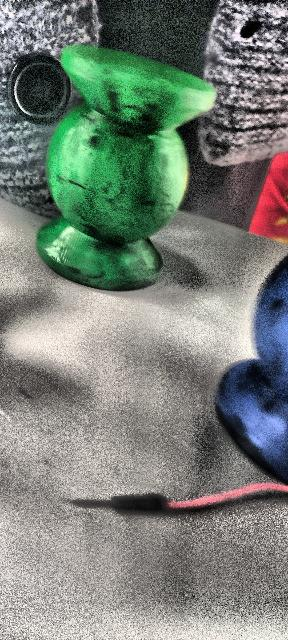blue: (216, 256, 286, 482)
green: (36, 43, 216, 291)
